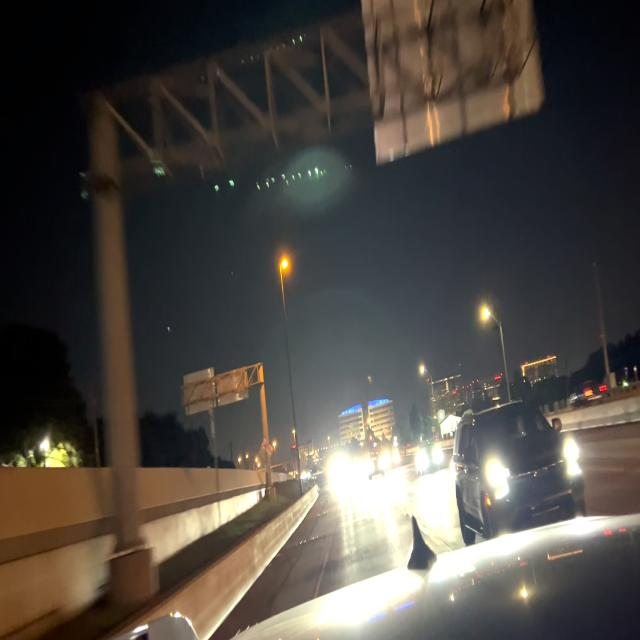back-of-sign: (360, 0, 545, 170), (182, 366, 214, 413), (216, 371, 246, 405)
